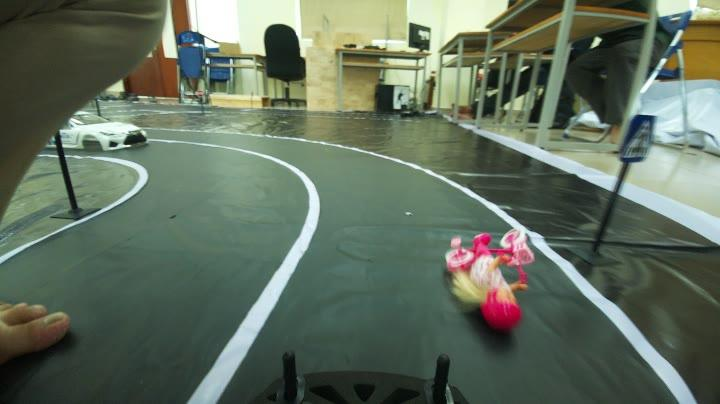crosswalk: (620, 110, 660, 172)
pedestrian: (430, 235, 544, 318)
